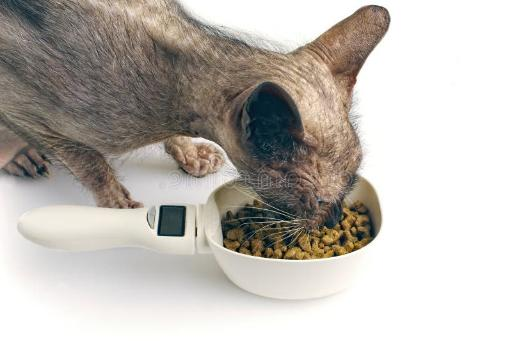cat_eating: (1, 0, 390, 298)
